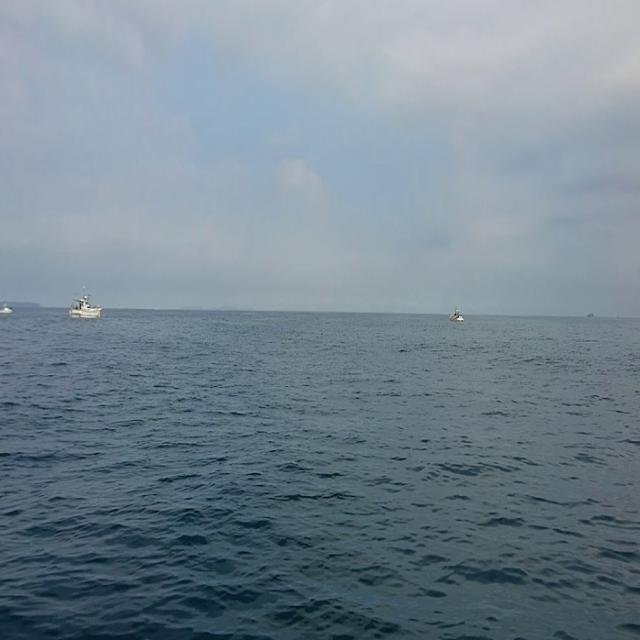houseboat: (66, 282, 106, 335)
